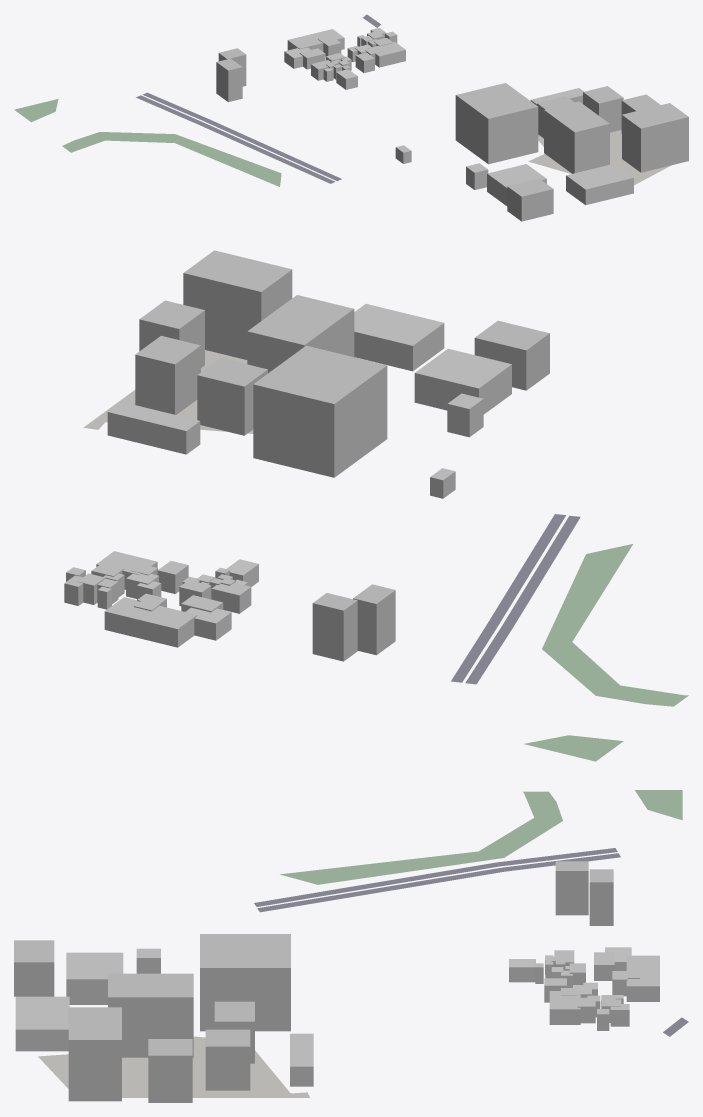
The model's file is 132_92_mid.glb.
3 renders of one model, top to bottom at view 1: azimuth 30°, elevation 25°; view 2: azimuth 150°, elevation 25°; view 3: azimuth 270°, elevation 25°, orthographic. The views are drawn at different scales.
Size of the model in its own units: 508 by 48.64 by 467.
